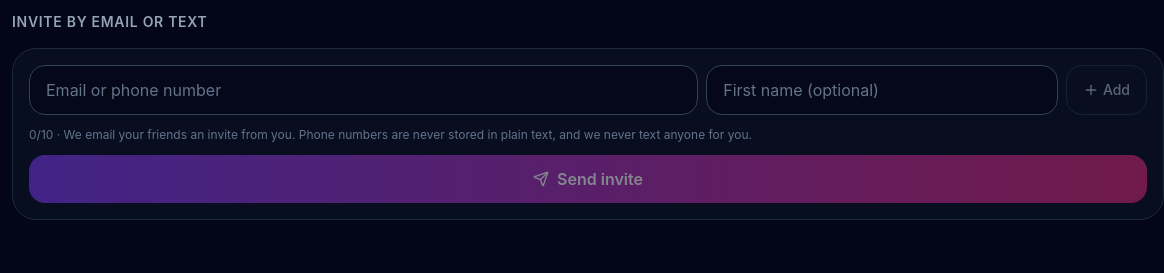
Test case: InviteByContactForm › shows opted-out results gracefully
In the field labelled "Email or phone number": (364, 90) x1=29 y1=65 x2=698 y2=115, type "gone@x.com"
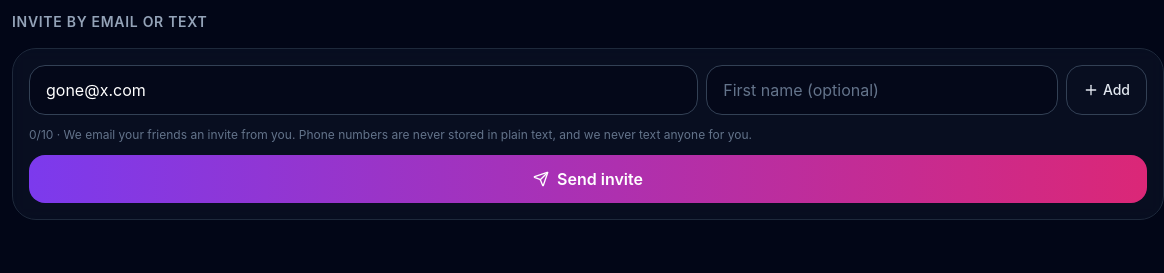
Click the button "Send invite": click(588, 179) x1=29 y1=155 x2=1147 y2=203
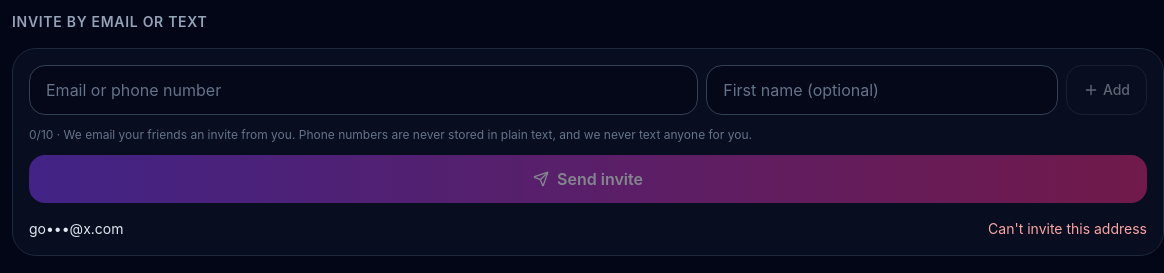
Result: the list with test id "invite-results" shows "Can't invite this address" at x1=988 y1=220 x2=1147 y2=237
